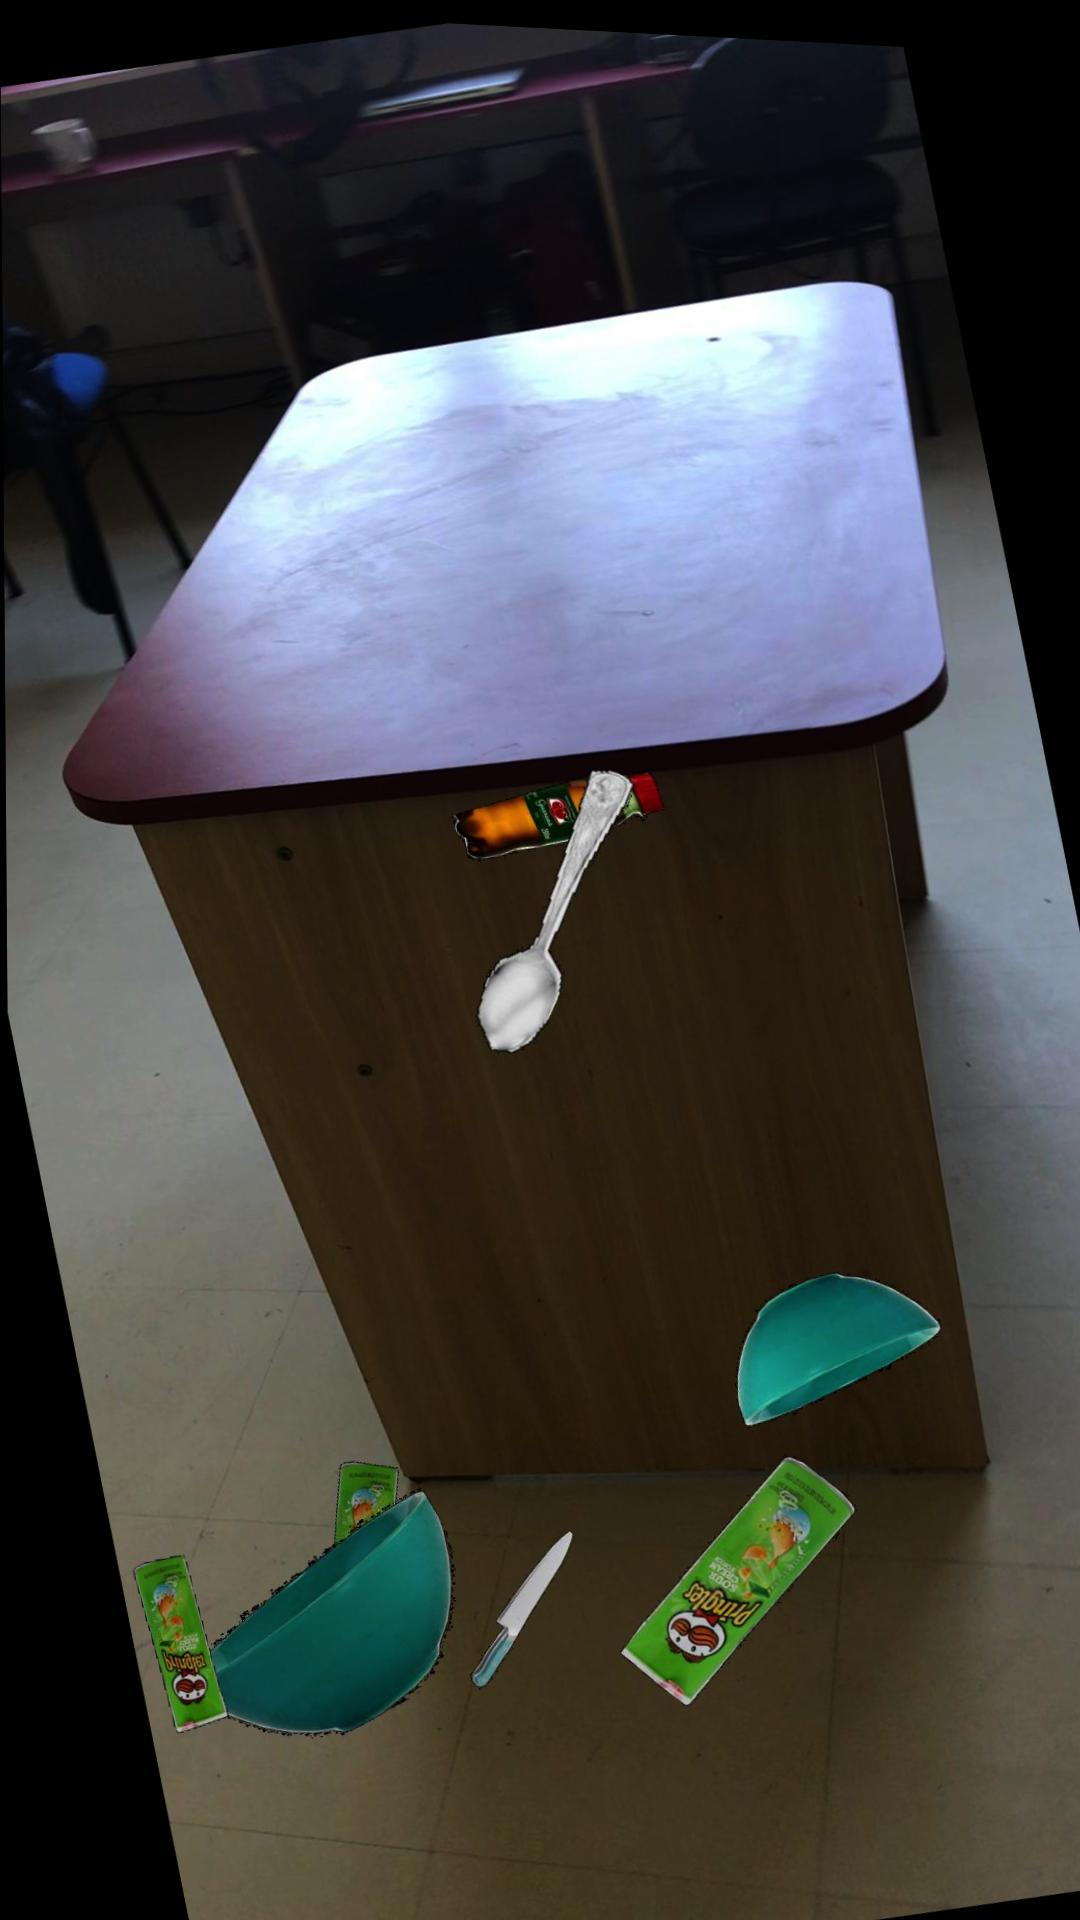bowl: (207, 1485, 450, 1731), (732, 1262, 938, 1416)
guarana: (450, 761, 662, 855)
knife: (465, 1523, 570, 1681)
pringles: (616, 1447, 852, 1697), (129, 1552, 224, 1730), (330, 1456, 394, 1540)
spoon: (472, 761, 632, 1047)
